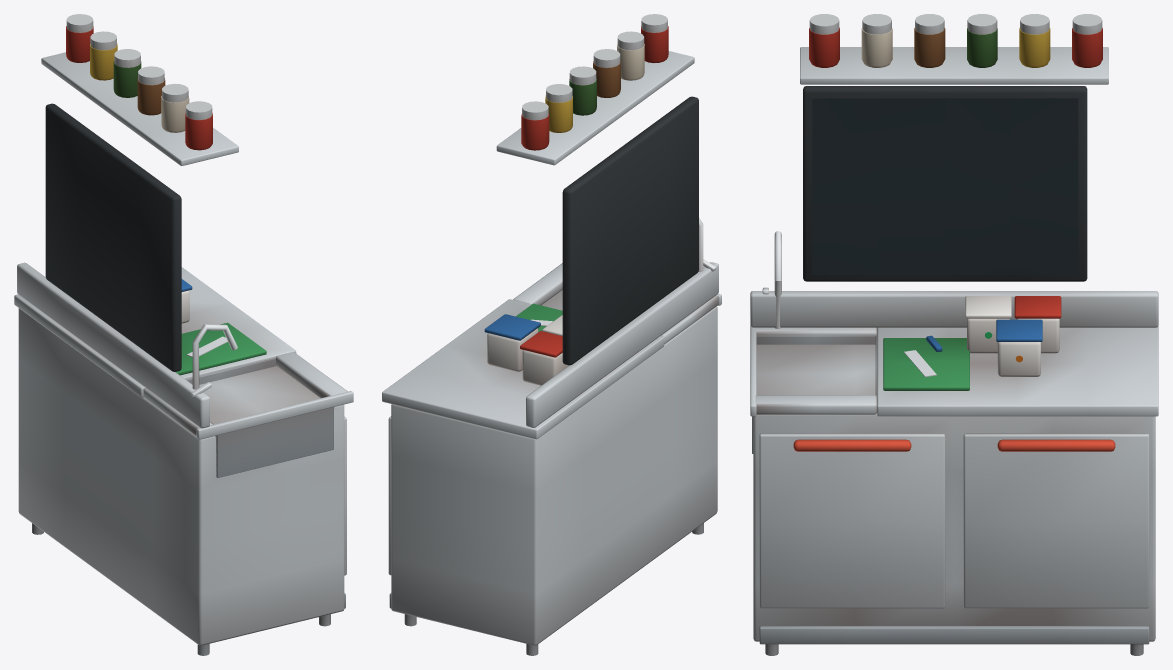
Rendered from fp-prep.gltf.
3 views of the same model, side by side, from view 1: azimuth 30°, elevation 25°; view 2: azimuth 150°, elevation 25°; view 3: azimuth 270°, elevation 25° (orthographic). The views are drawn at different scales.
Visible parts, largest first — view 1: model; view 2: model; view 3: model.
Boxes of the visible parts, x1,y1,x2,y2 form: model: [14, 14, 353, 655]; model: [382, 14, 721, 655]; model: [750, 14, 1158, 655].
Bounding box in the file's own units: 0.672 × 2.06 × 1.32.
